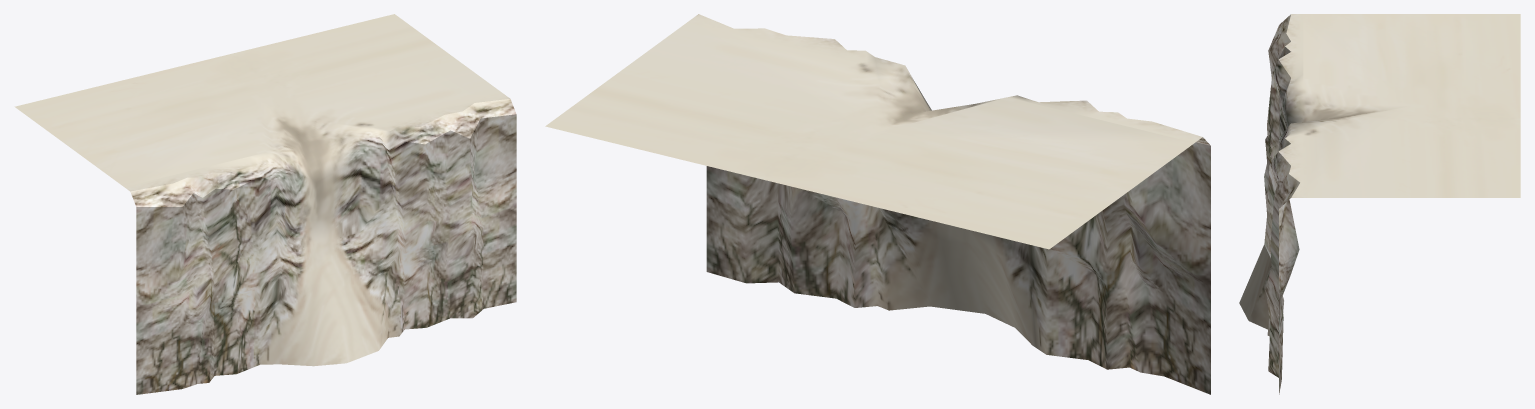
File: TDBlock5.fbx
3 renders of one model, left to right at view 1: azimuth 30°, elevation 25°; view 2: azimuth 150°, elevation 25°; view 3: azimuth 270°, elevation 25°, orthographic. The views are drawn at different scales.
Visible parts, largest first — view 1: pCube79; view 2: pCube79; view 3: pCube79.
Boxes of the visible parts, <box> form: pCube79: <box>14,14,516,394</box>; pCube79: <box>545,14,1210,394</box>; pCube79: <box>1239,14,1520,394</box>.
Bounding box in the file's own units: 42.96 × 21.5 × 27.8.
